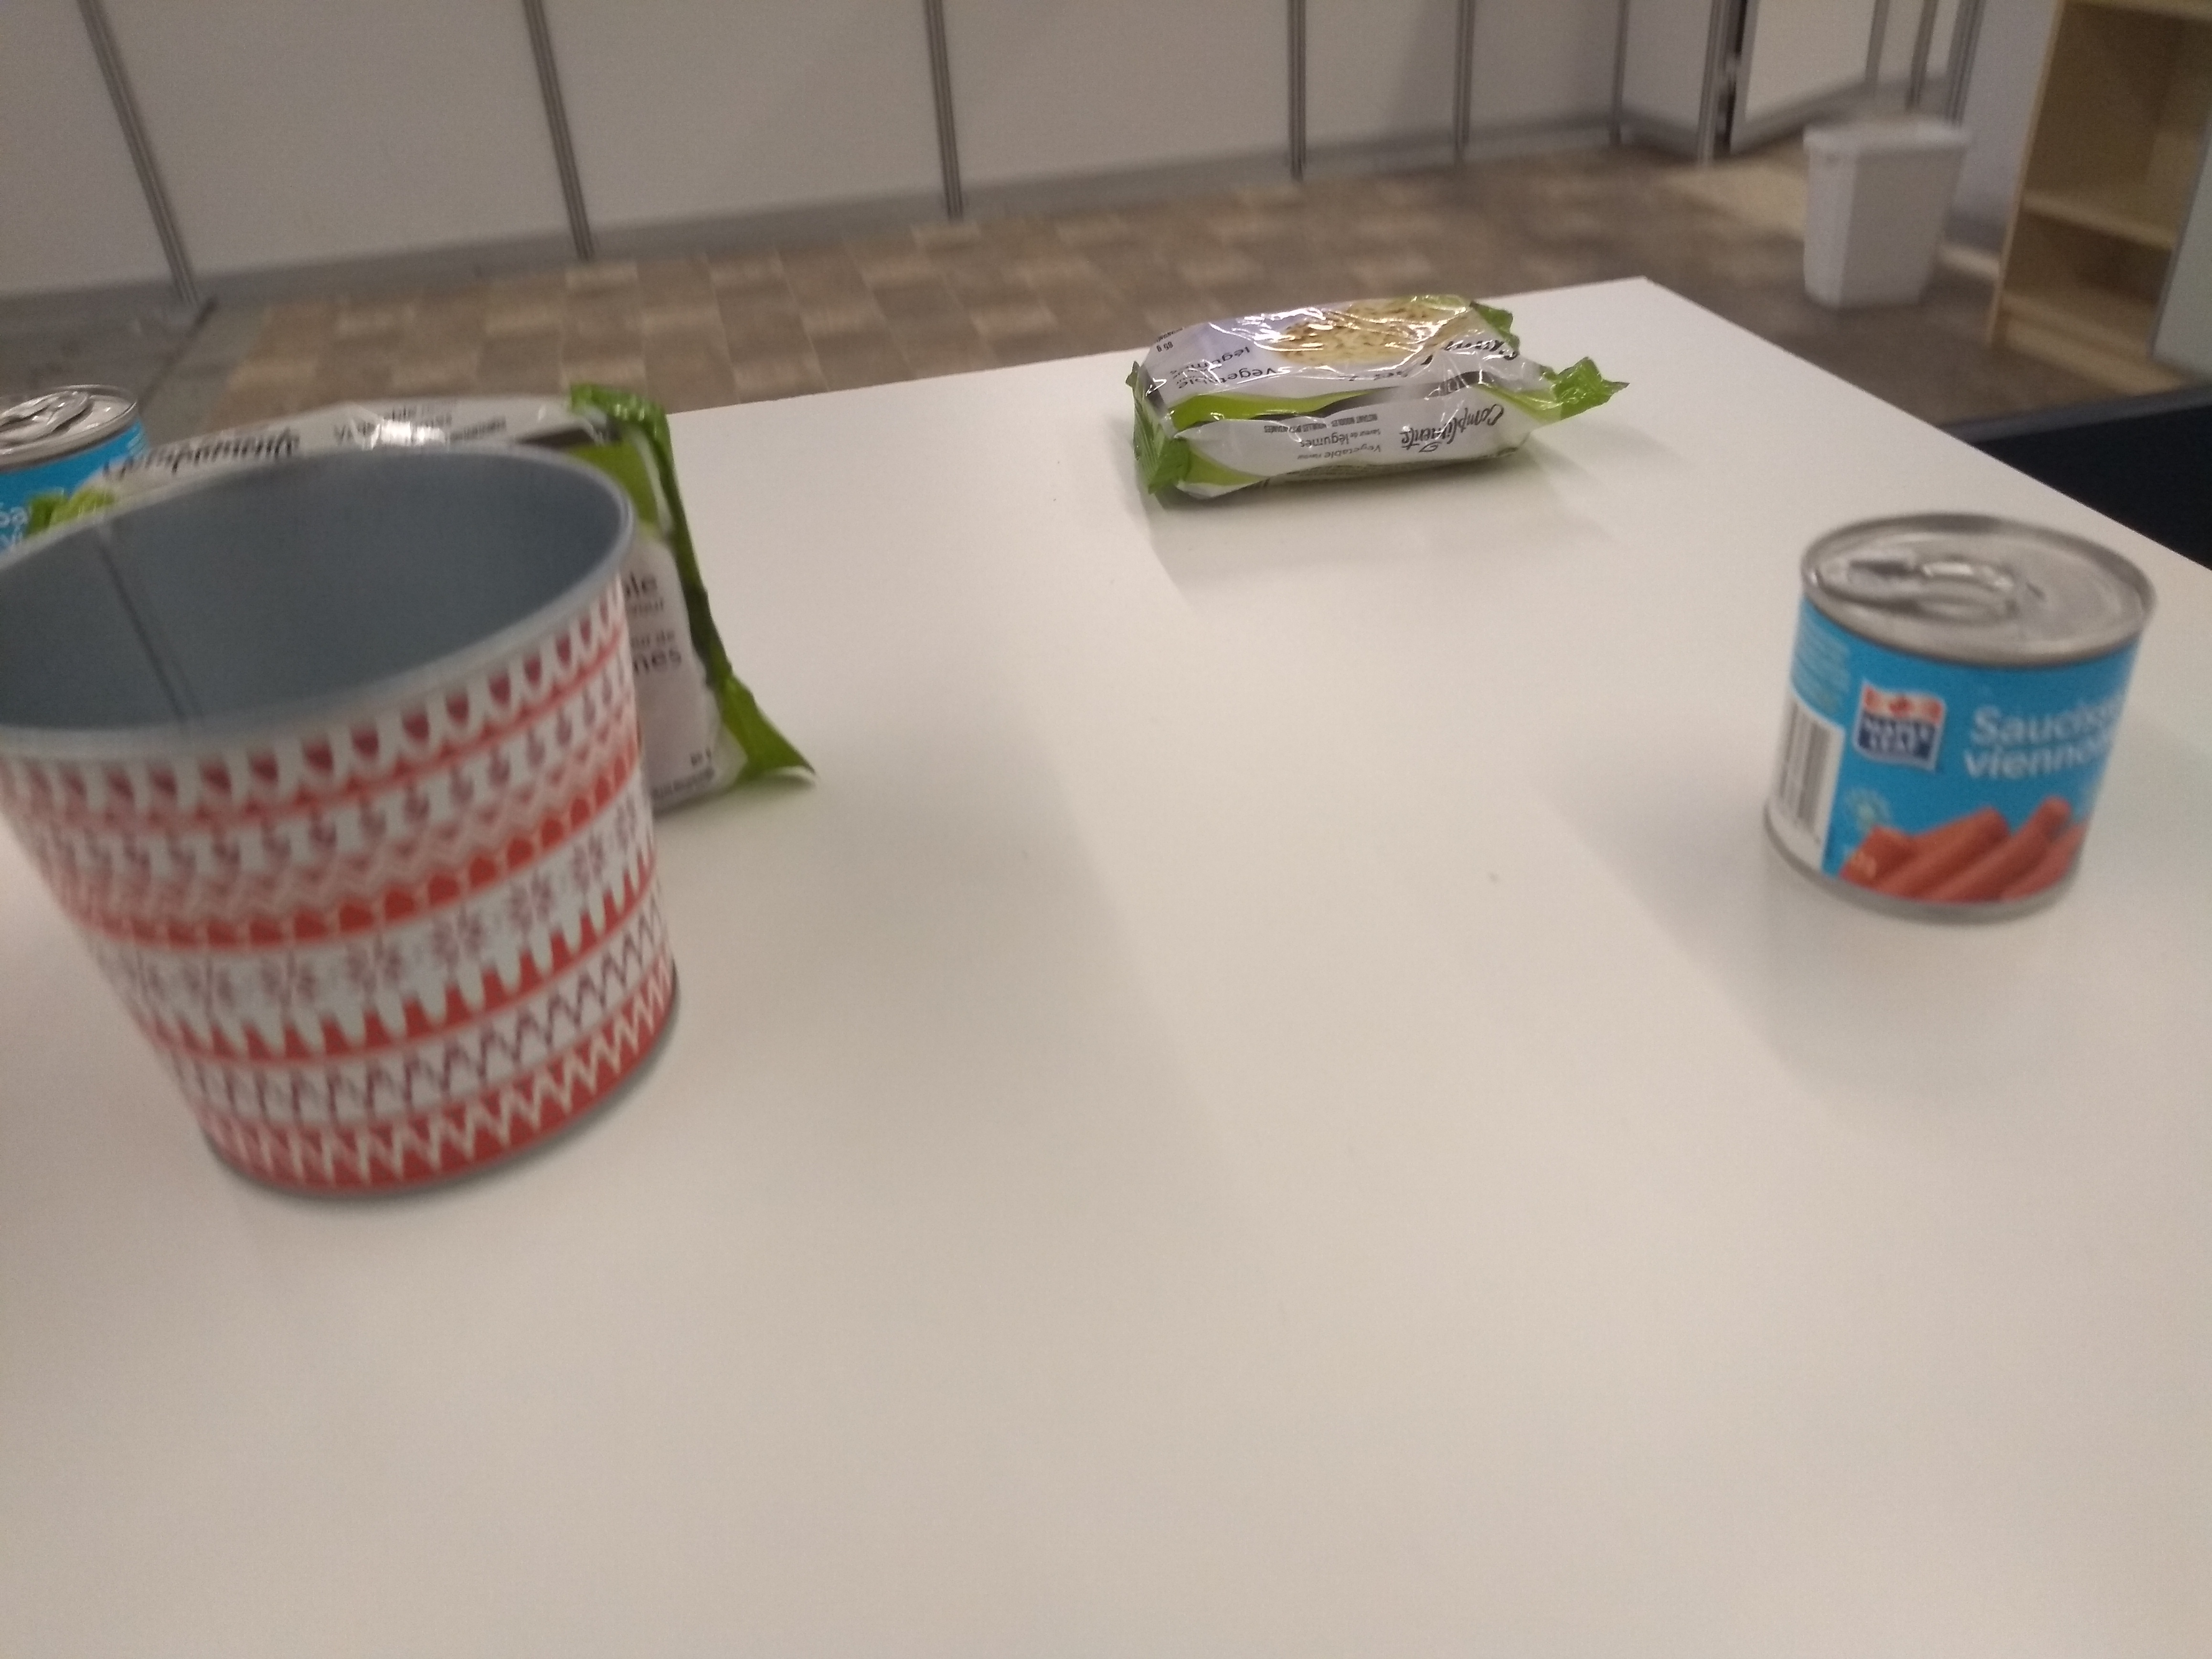noodles: (1116, 286, 1634, 519)
sausages: (1749, 502, 2168, 946)
